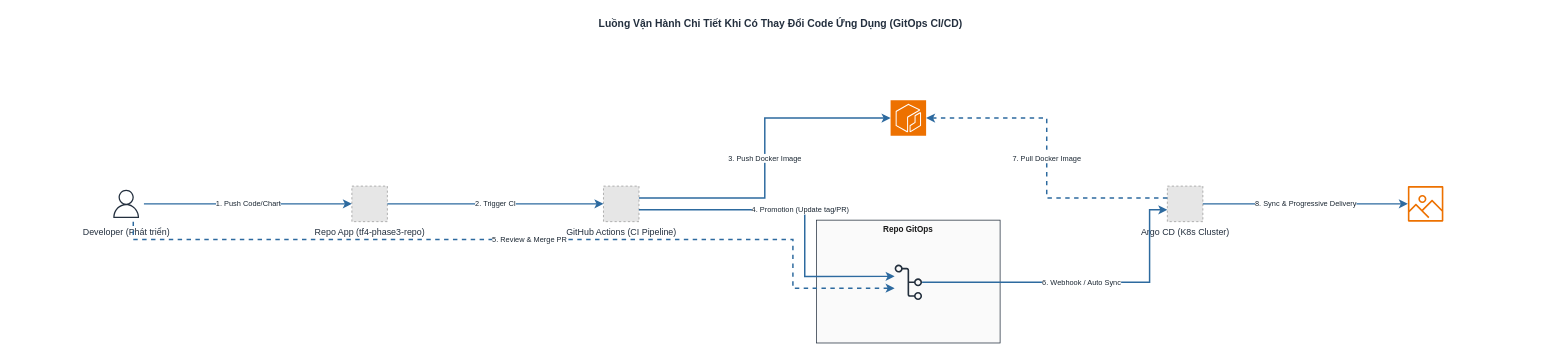
The diagram is 1559 pixels wide and 356 high, and some of its shapes have lost their labels. Grey dashed boxes stand in for pictures. The shapes that lost their labels are listed below. From the top down, each one's centre as x and y in pixels, then its label:
At [908,118]: "Amazon ECR (Docker Registry)".
At [1425,203]: "Ứng dụng TechX chạy thực tế".
At [908,282]: "tf4-phase3-gitops-manifests (Main Branch)".
